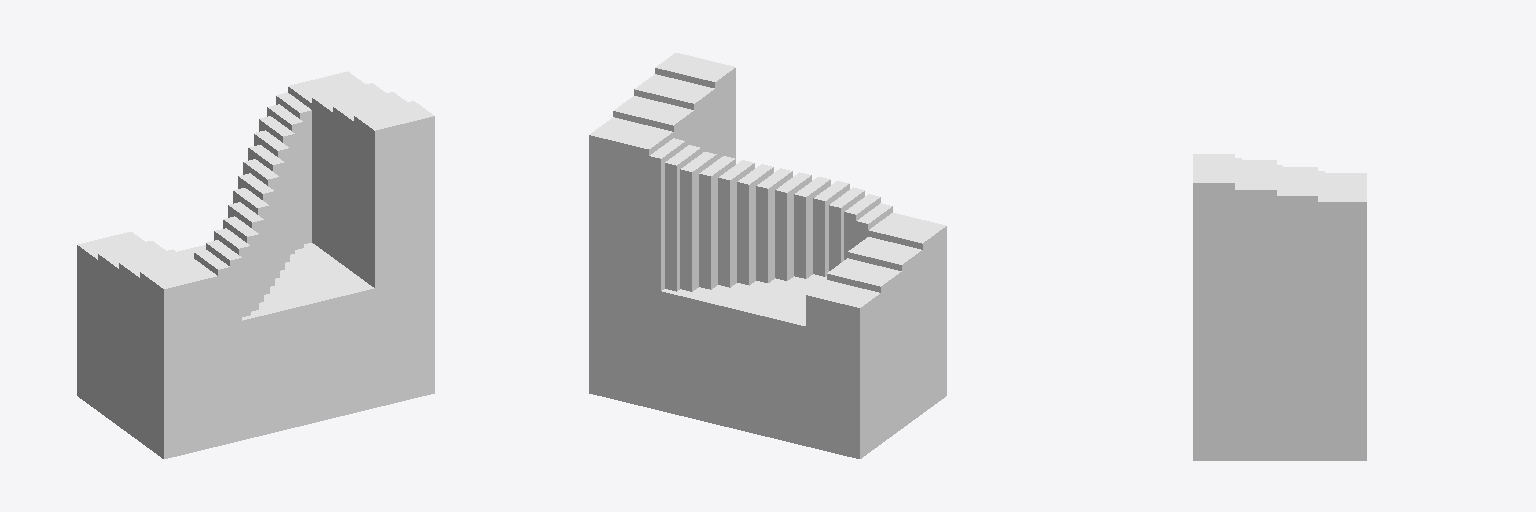
Rendered from Stepped.obj.
The picture shows the model from 3 angles: view 1: azimuth 30°, elevation 25°; view 2: azimuth 150°, elevation 25°; view 3: azimuth 270°, elevation 25°; orthographic projection.
Size of the model in its own units: 45 by 44 by 25.